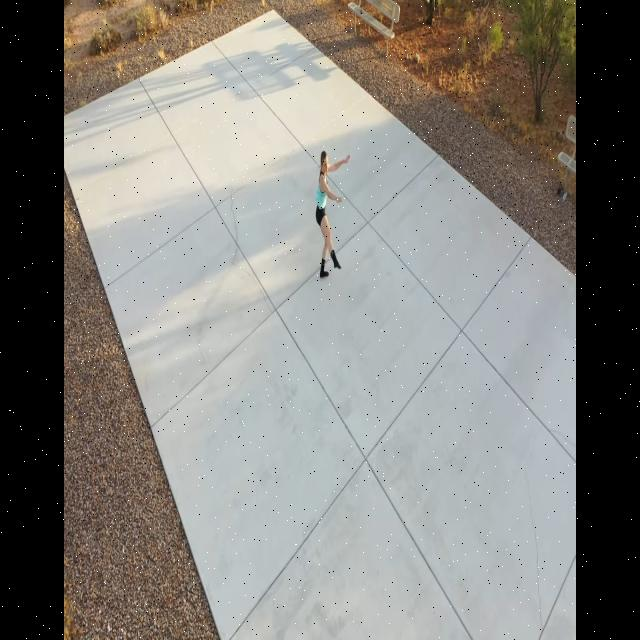humans: (307, 132, 354, 295)
